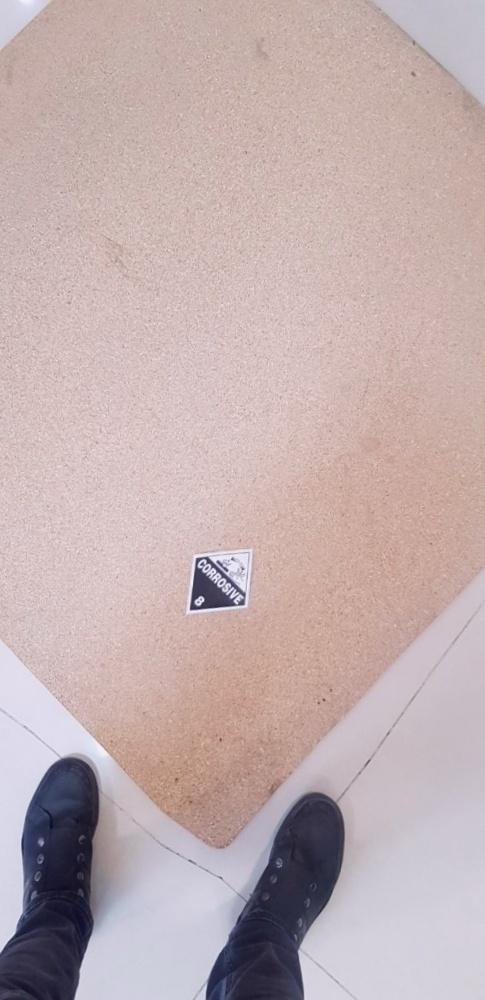corrosive: (186, 541, 255, 616)
